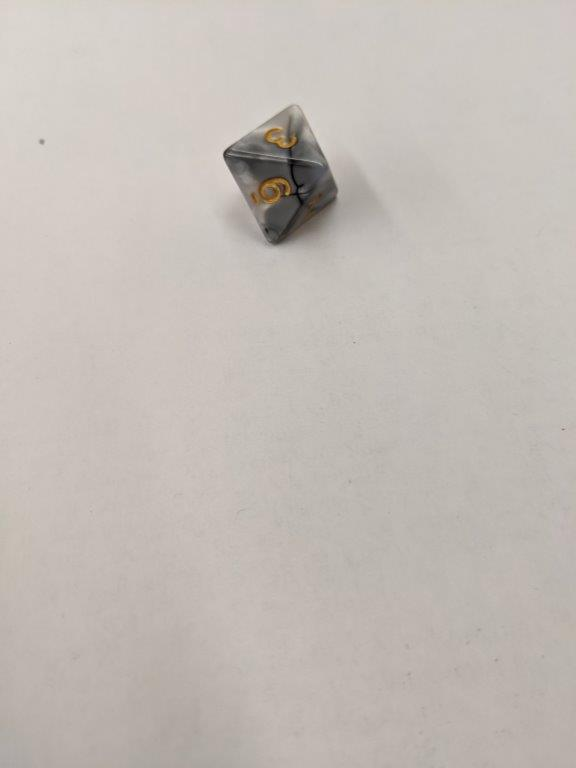d8-3: (219, 101, 337, 242)
